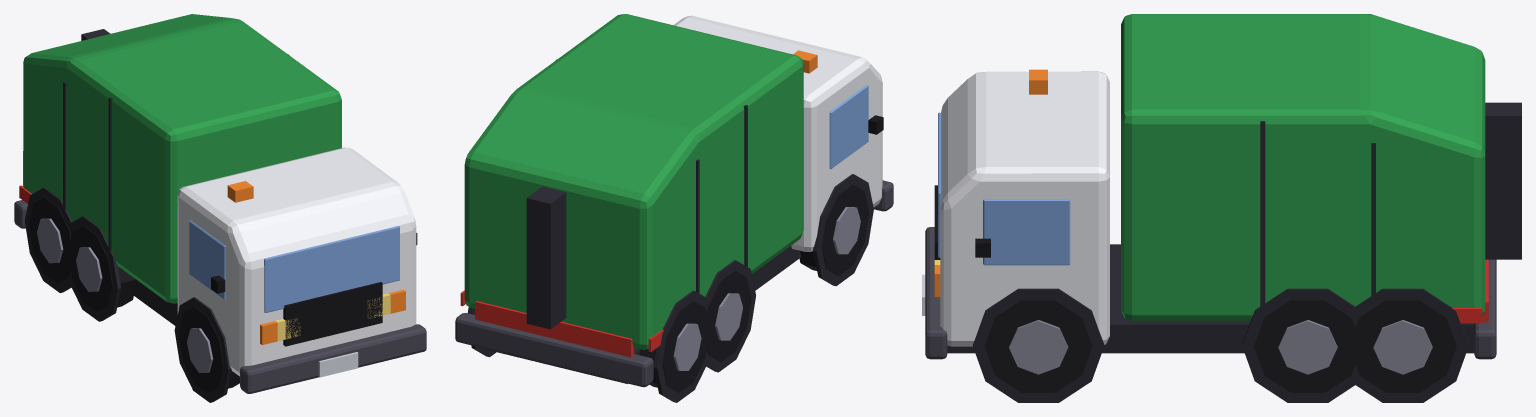
The model's file is garbage-truck.glb.
3 views of the same model, side by side, from view 1: azimuth 30°, elevation 25°; view 2: azimuth 150°, elevation 25°; view 3: azimuth 270°, elevation 25° (orthographic). The views are drawn at different scales.
Visible parts, largest first — view 1: GarbageTruck; view 2: GarbageTruck; view 3: GarbageTruck.
Part boxes in pixels (x1,y1,x2,y2): GarbageTruck: [14, 14, 426, 402]; GarbageTruck: [455, 14, 893, 402]; GarbageTruck: [922, 14, 1521, 402].
Size of the model in its own units: 1.77 by 2 by 3.79.
Materials: 1 (1 with a texture image).
